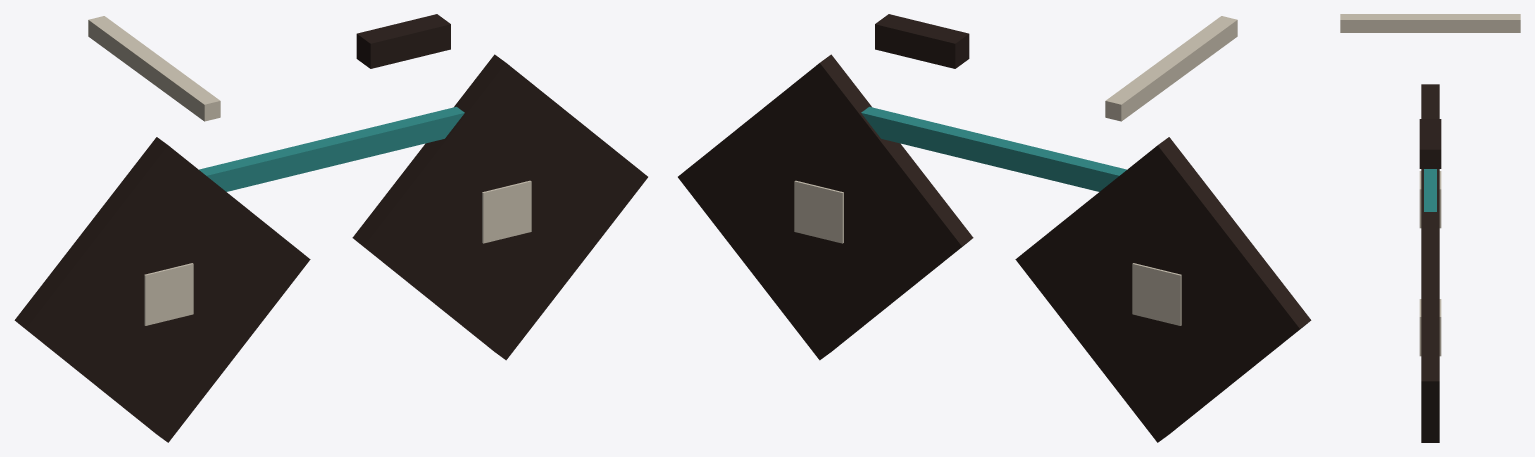
File: bike_nguyens.glb
3 renders of one model, left to right at view 1: azimuth 30°, elevation 25°; view 2: azimuth 150°, elevation 25°; view 3: azimuth 270°, elevation 25°, orthographic. The views are drawn at different scales.
Visible parts, largest first — view 1: Box1, Box3, Box5, Box8, Box7, Box2, Box4; view 2: Box1, Box3, Box5, Box8, Box7, Box2, Box4; view 3: Box3, Box8, Box7, Box1, Box5, Box2, Box4.
Part boxes in pixels (<box>): Box1: <box>14,137,310,442</box>; Box3: <box>352,54,647,360</box>; Box5: <box>199,106,464,191</box>; Box8: <box>88,16,220,121</box>; Box7: <box>356,14,450,68</box>; Box2: <box>144,263,193,325</box>; Box4: <box>482,180,531,243</box>; Box1: <box>1015,137,1311,442</box>; Box3: <box>678,54,973,360</box>; Box5: <box>861,106,1126,191</box>; Box8: <box>1105,16,1237,121</box>; Box7: <box>875,14,969,68</box>; Box2: <box>1132,263,1181,325</box>; Box4: <box>794,180,843,243</box>; Box3: <box>1421,212,1439,442</box>; Box8: <box>1340,14,1520,32</box>; Box7: <box>1419,119,1441,168</box>; Box1: <box>1421,84,1439,211</box>; Box5: <box>1424,169,1436,211</box>; Box2: <box>1419,171,1441,228</box>; Box4: <box>1419,299,1441,356</box>.
Size of the model in its own units: 1.55 by 0.9036 by 0.5.
